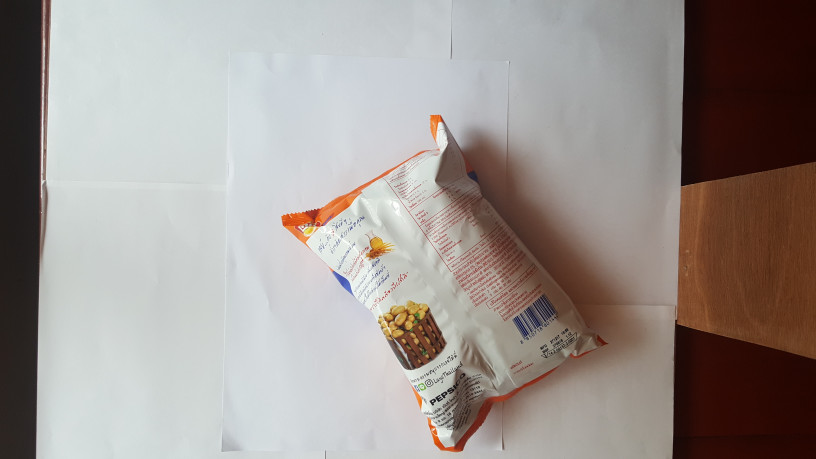lays-bbq: (275, 112, 608, 454)
